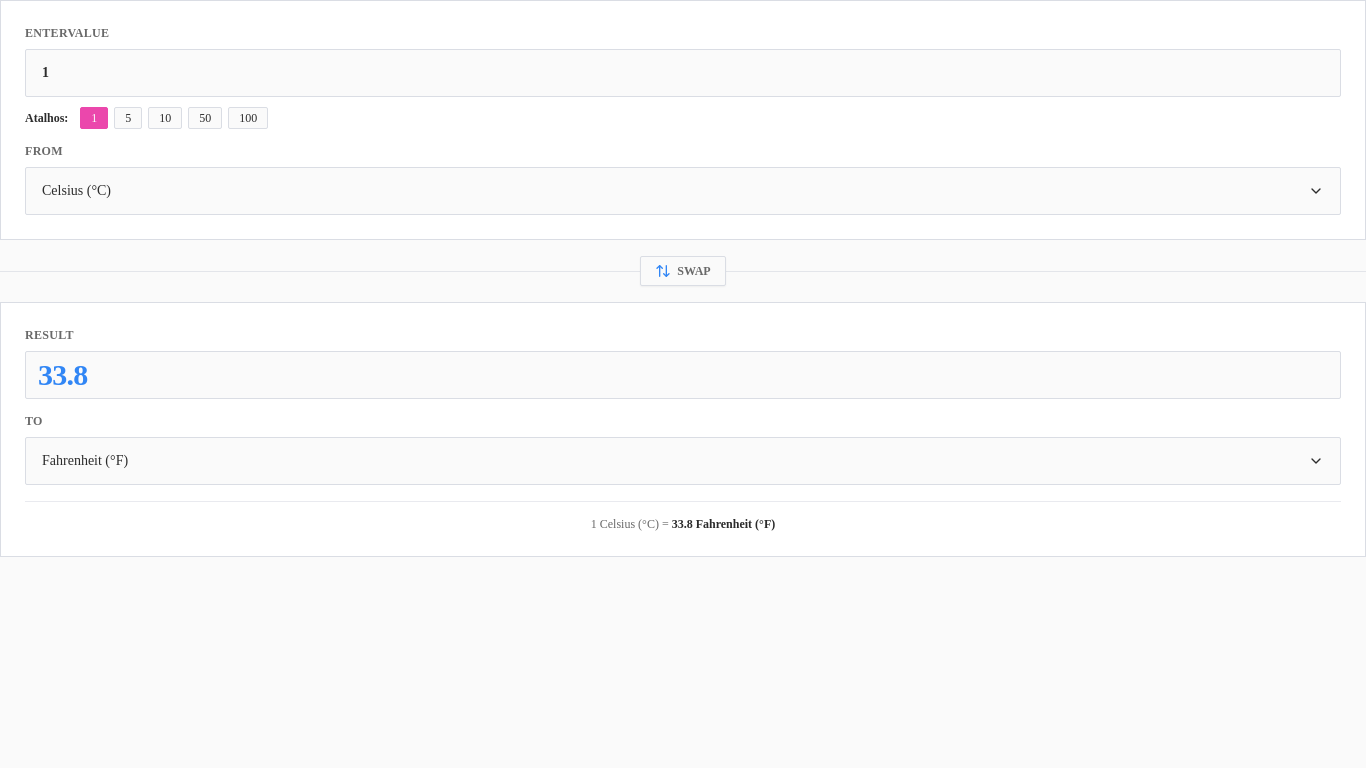
ConversionWidget › temperature category › converts 100 celsius to 212 fahrenheit
Replace the text in the number field with "100" at [683, 73], box [25, 49, 1341, 97]
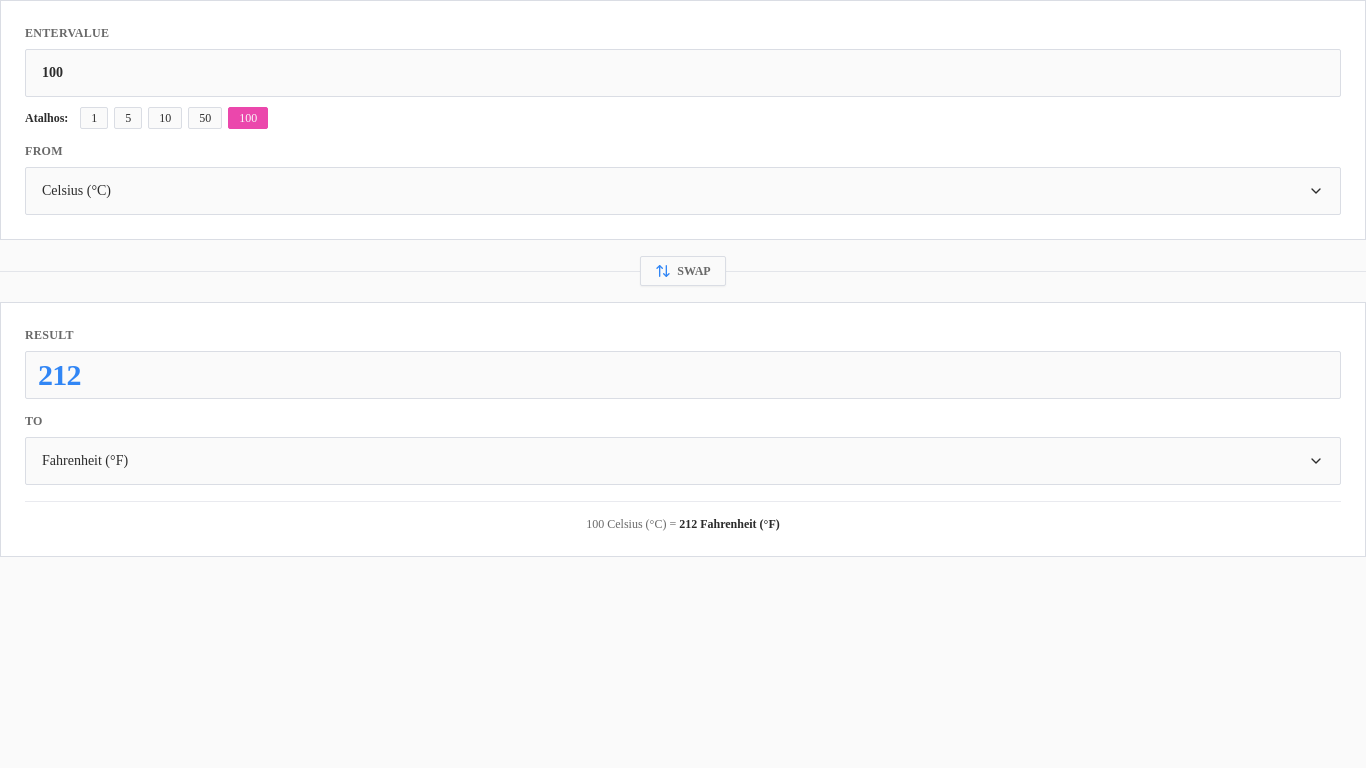
Expected: the text with test id "conversion-result" reads "212", [38, 358, 81, 391]
